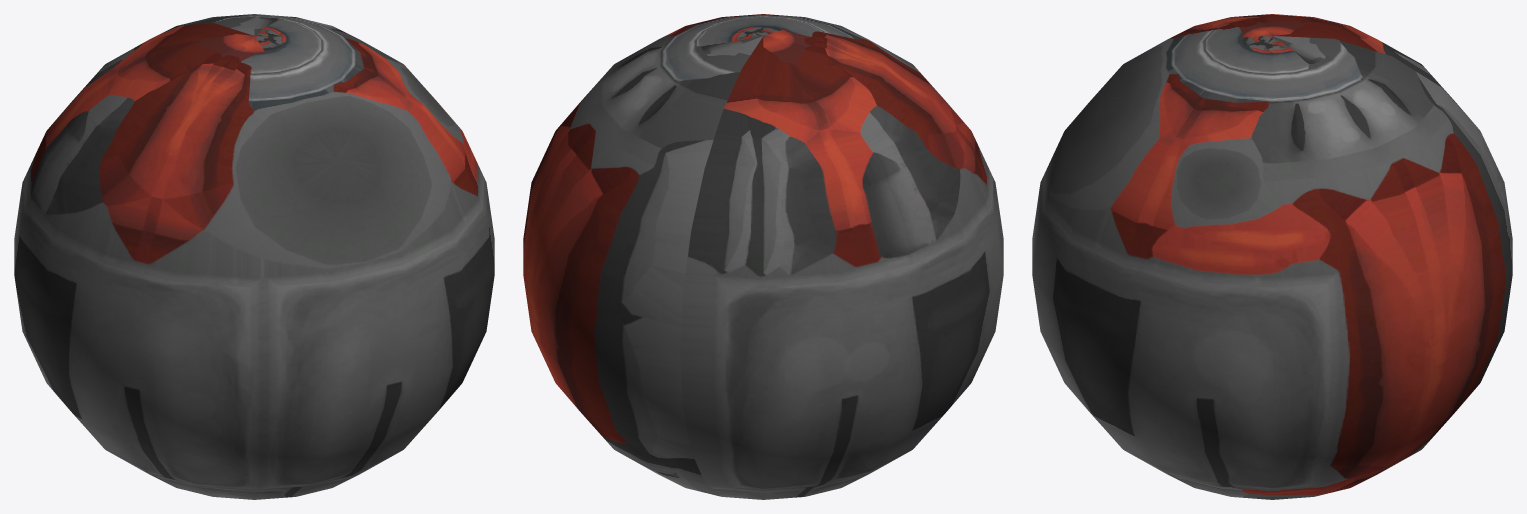
The model's file is Bullet.fbx.
3 renders of one model, left to right at view 1: azimuth 30°, elevation 25°; view 2: azimuth 150°, elevation 25°; view 3: azimuth 270°, elevation 25°, orthographic.
Visible parts, largest first — view 1: SM_Proj_LinkingGun.001; view 2: SM_Proj_LinkingGun.001; view 3: SM_Proj_LinkingGun.001.
Boxes of the visible parts, x1=… form: SM_Proj_LinkingGun.001: x1=14, y1=14, x2=494, y2=499; SM_Proj_LinkingGun.001: x1=523, y1=14, x2=1003, y2=499; SM_Proj_LinkingGun.001: x1=1032, y1=14, x2=1512, y2=499.
Size of the model in its own units: 20000 by 20000 by 19696.
1 material, 1 textured.
